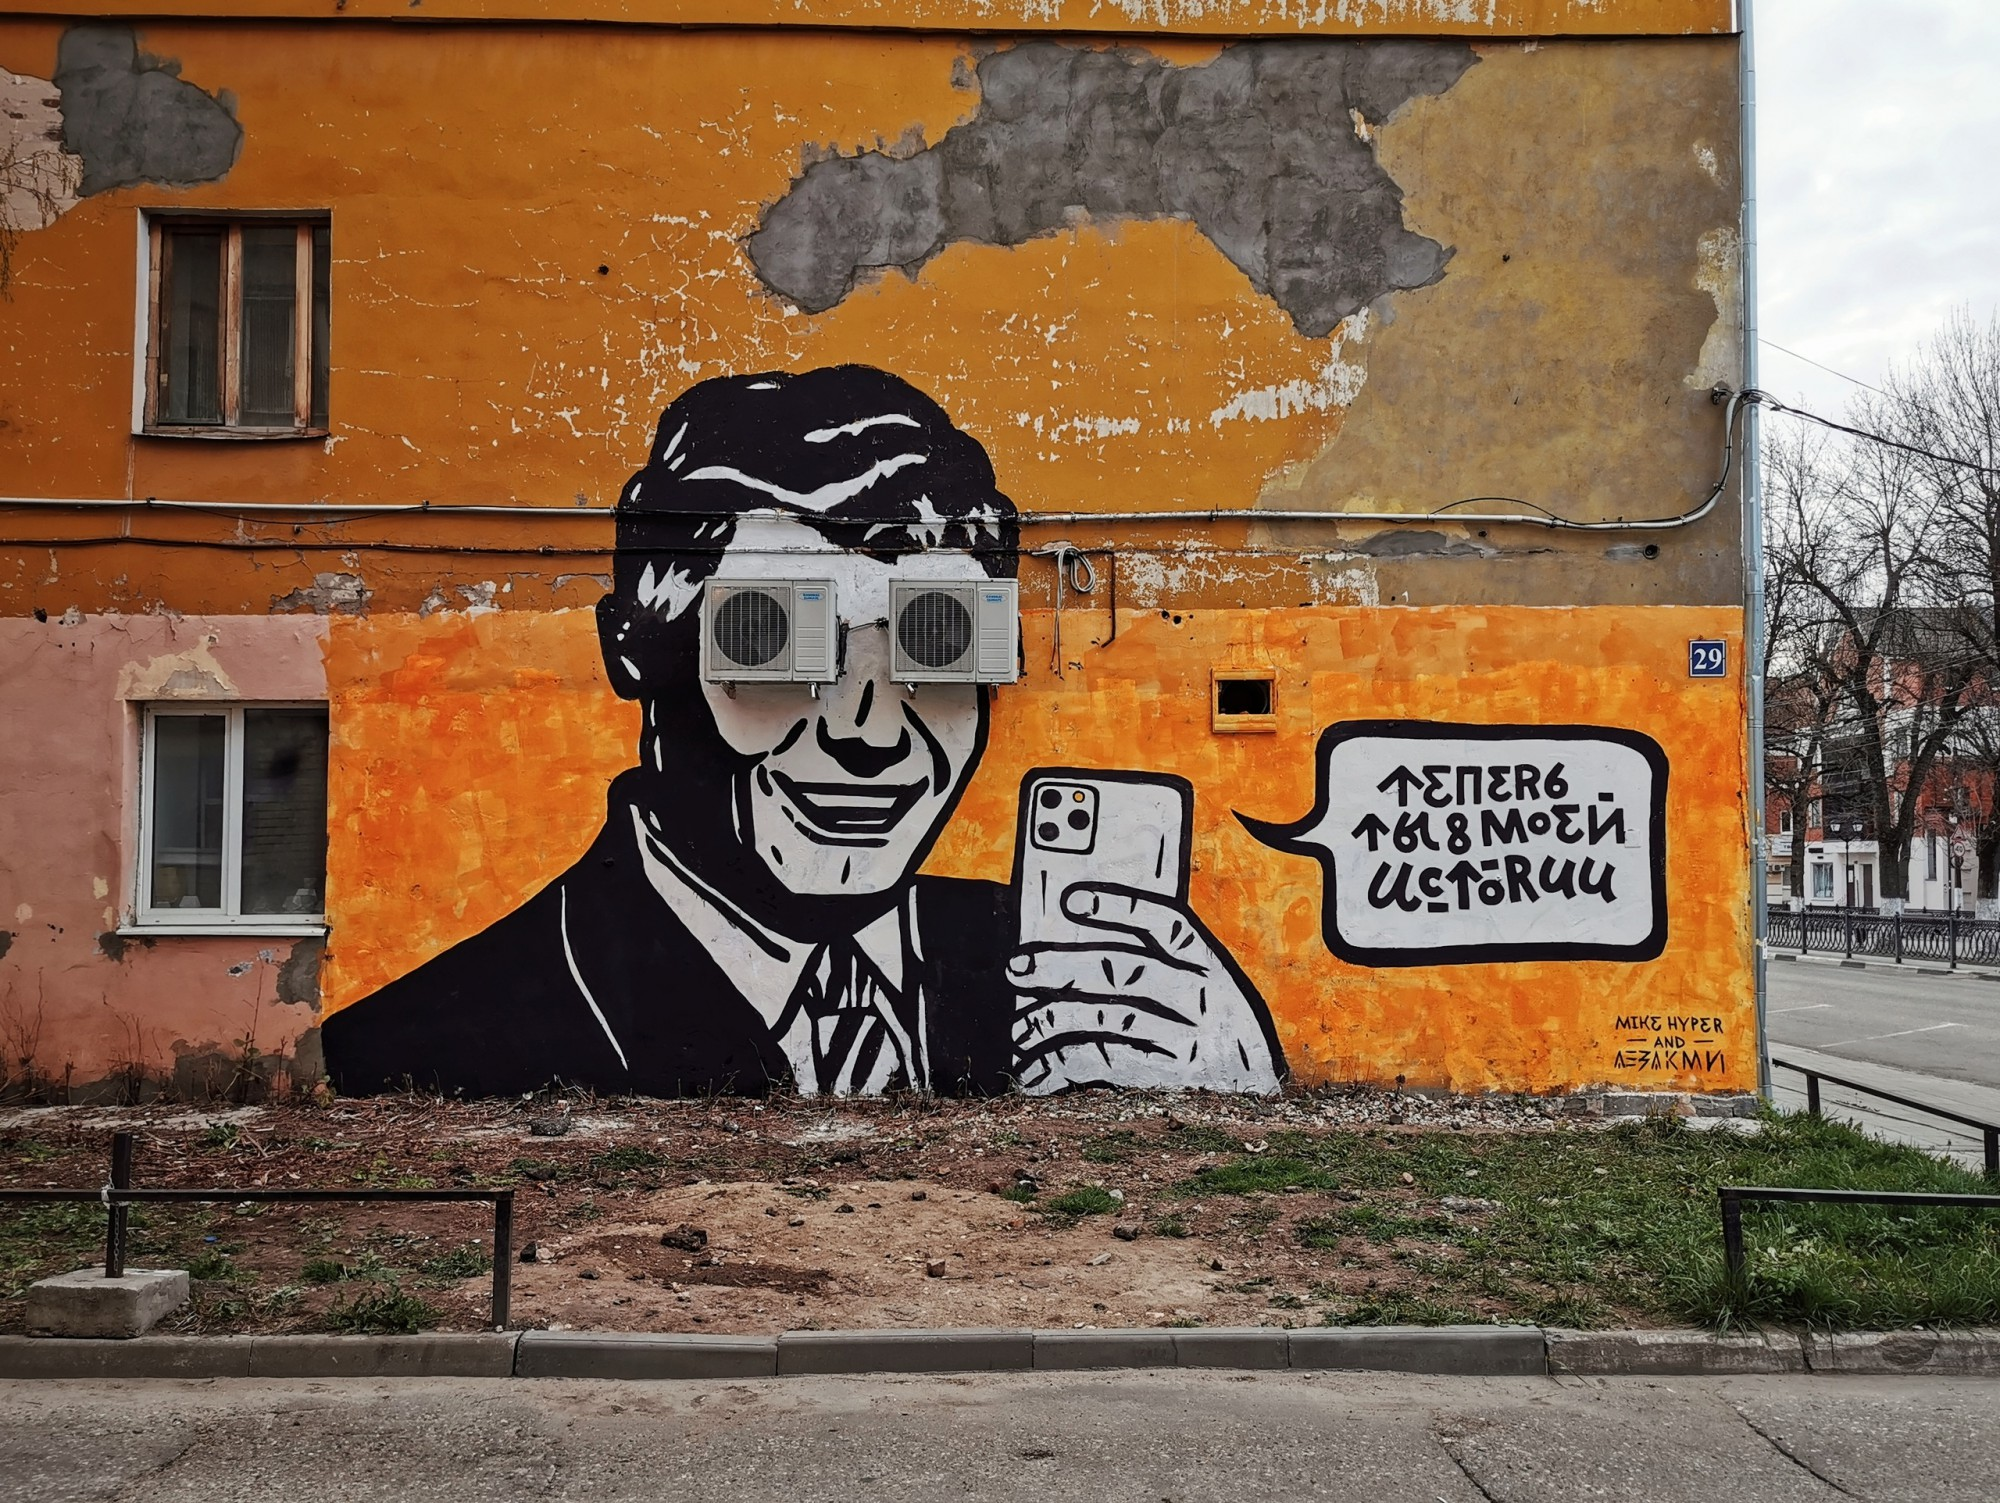graphite: (346, 385, 1312, 1096), (1287, 616, 1763, 1115)
